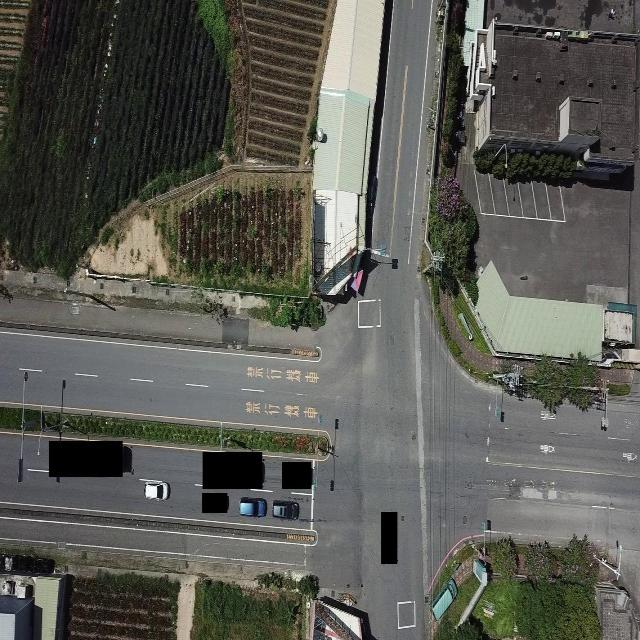car: (438, 569, 458, 621), (141, 477, 170, 506), (239, 496, 267, 518), (272, 499, 299, 520)
